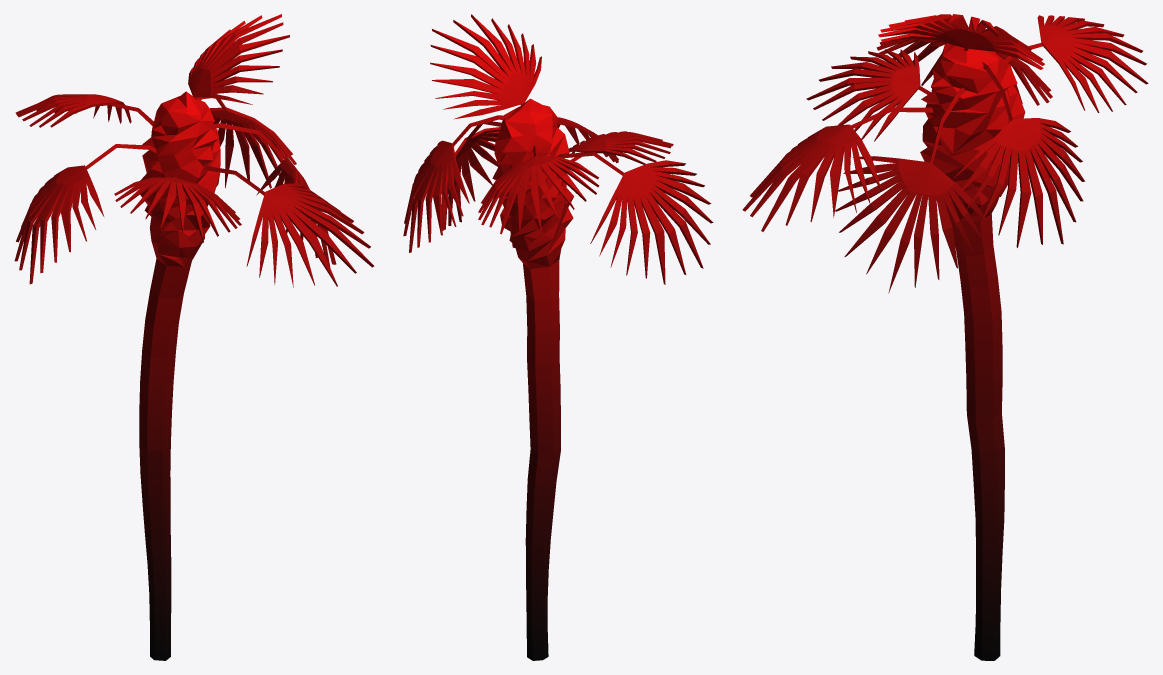
The model's file is TreeWindmill07.fbx.
The picture shows the model from 3 angles, left to right: view 1: azimuth 30°, elevation 25°; view 2: azimuth 150°, elevation 25°; view 3: azimuth 270°, elevation 25°; orthographic projection. The views are drawn at different scales.
Parts seen in each view (by area): view 1: TreeWindmill07_LOD0; view 2: TreeWindmill07_LOD0; view 3: TreeWindmill07_LOD0.
Boxes of the visible parts, x1,y1,x2,y2 form: TreeWindmill07_LOD0: (14,14,374,660); TreeWindmill07_LOD0: (403,14,713,660); TreeWindmill07_LOD0: (742,14,1148,660).
Size of what is drawn, in the model's own units: 485 by 1027 by 548.
